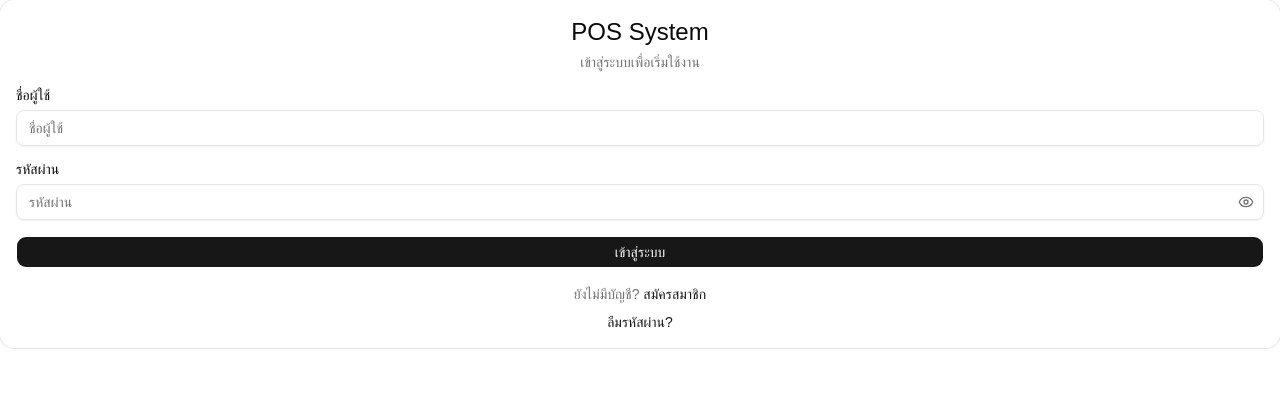
LoginPage › shows validation error for short password
In the field labelled "ชื่อผู้ใช้": (640, 128) 16,110 -> 1264,146, type "testuser"
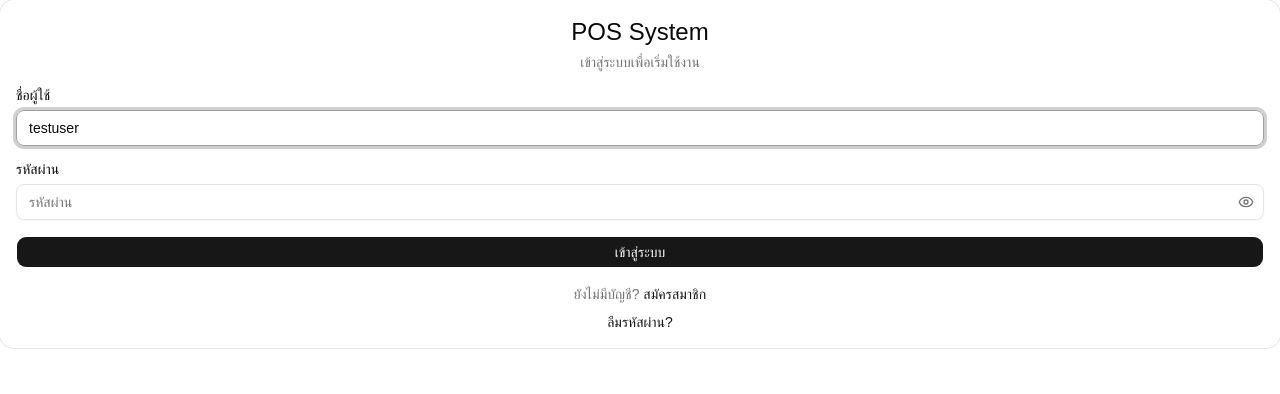
In the password field labelled "รหัสผ่าน": (640, 202) 16,184 -> 1264,220, type "1234567"
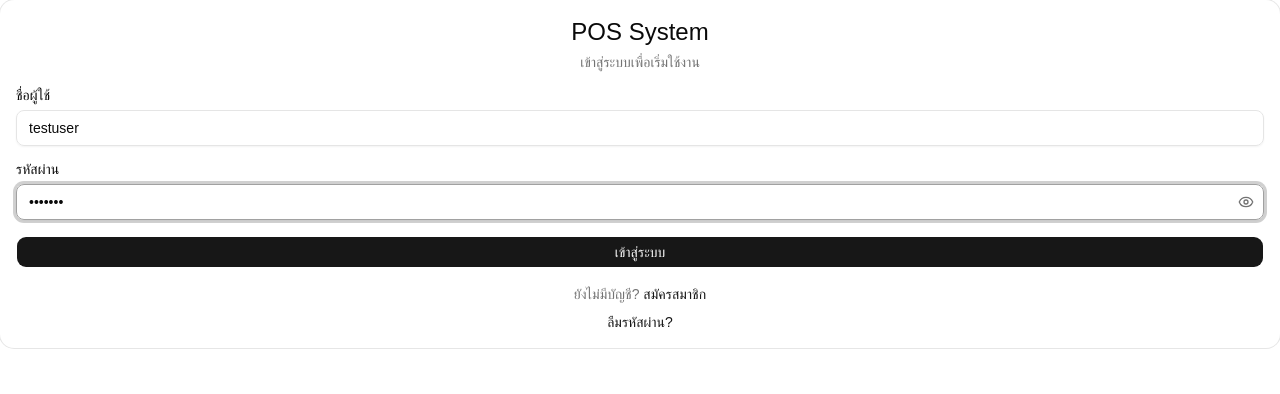
Click the button "เข้าสู่ระบบ": (640, 252) 16,236 -> 1264,268
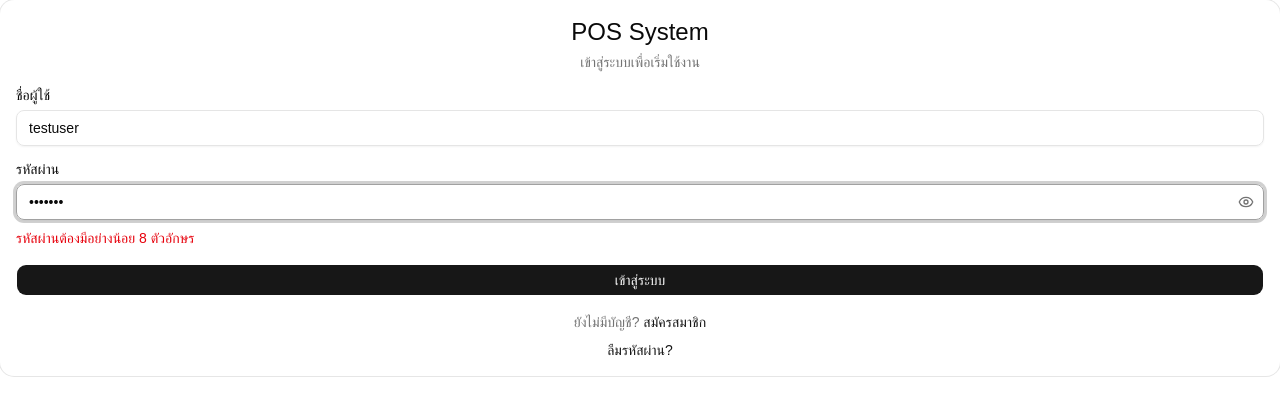
Check: the text "รหัสผ่านต้องมีอย่างน้อย 8 ตัวอักษร" is shown, box 16,230 -> 194,246
